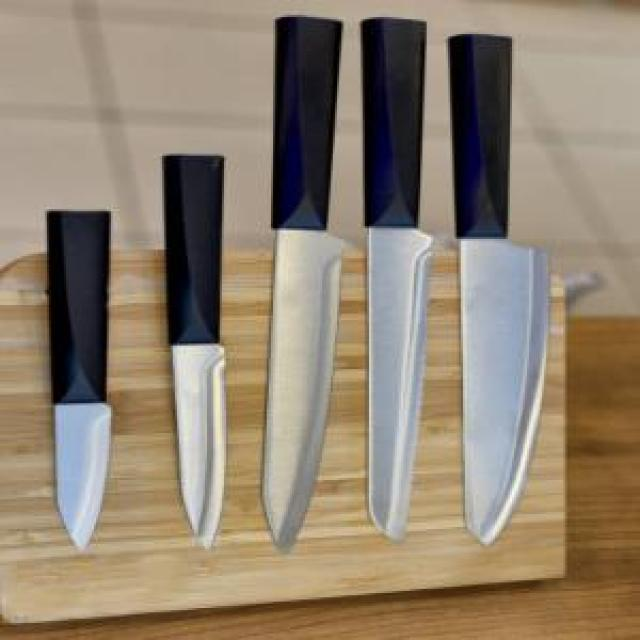knife: (341, 6, 479, 555), (442, 0, 575, 554), (245, 15, 350, 556), (21, 186, 126, 559), (166, 151, 234, 557)
